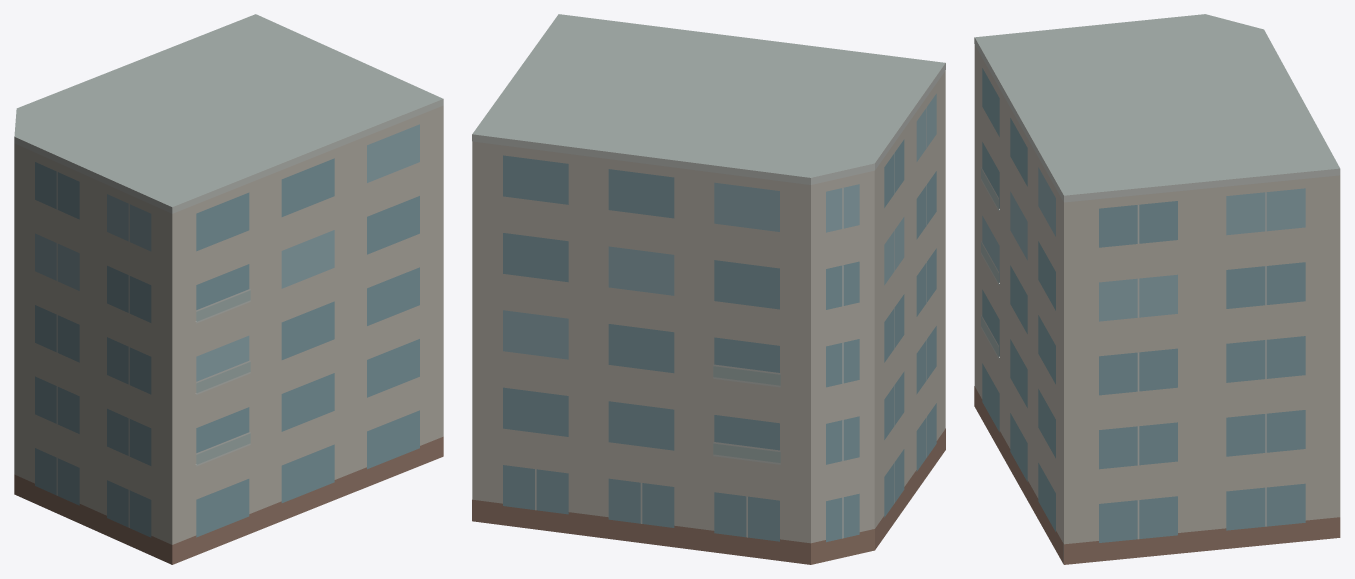
The model's file is survey-upis-32698521.glb.
3 views of the same model, side by side, from view 1: azimuth 30°, elevation 25°; view 2: azimuth 150°, elevation 25°; view 3: azimuth 270°, elevation 25° (orthographic). The views are drawn at different scales.
Parts seen in each view (by area): view 1: survey-upis-32698521.tmp; view 2: survey-upis-32698521.tmp; view 3: survey-upis-32698521.tmp.
Boxes of the visible parts, x1,y1,x2,y2 form: survey-upis-32698521.tmp: [14, 14, 443, 564]; survey-upis-32698521.tmp: [472, 14, 945, 564]; survey-upis-32698521.tmp: [974, 14, 1340, 564].
Bounding box in the file's own units: 13.94 × 13.2 × 11.86.
